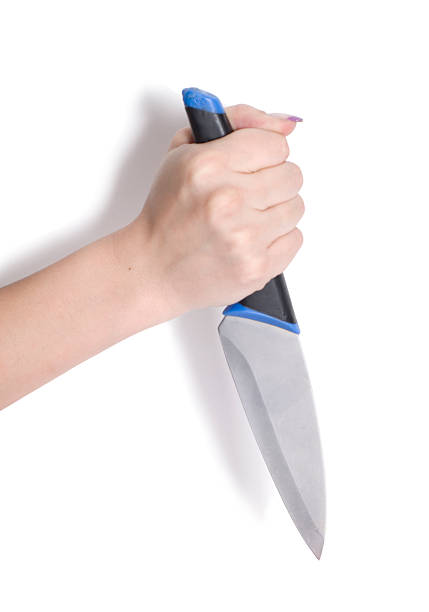knife: (183, 84, 328, 562)
